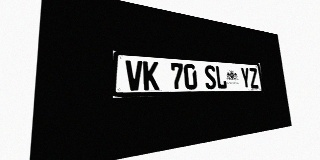0: (183, 64, 197, 90)
7: (170, 63, 184, 90)
K: (143, 61, 159, 90)
L: (215, 66, 227, 89)
S: (204, 65, 217, 89)
V: (125, 60, 143, 91)
Y: (240, 67, 251, 89)
Z: (249, 68, 259, 88)
